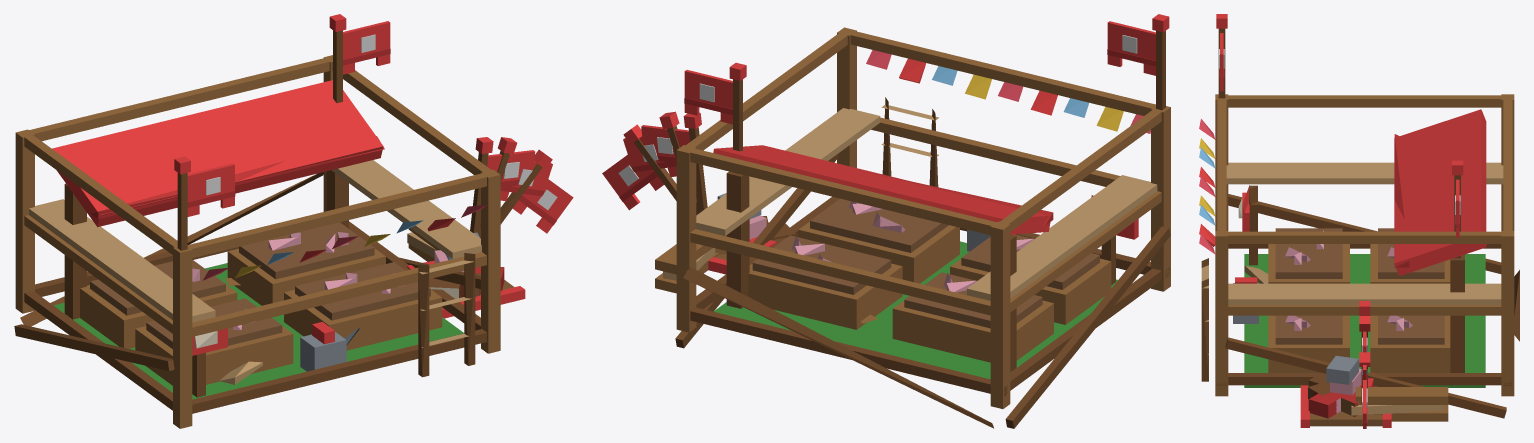
File: robin-producer.glb
The picture shows the model from 3 angles, left to right: view 1: azimuth 30°, elevation 25°; view 2: azimuth 150°, elevation 25°; view 3: azimuth 270°, elevation 25°; orthographic projection. The views are drawn at different scales.
Parts seen in each view (by area): view 1: scaffold-mesh, built-mesh, dismantle-75-mesh, dismantle-50-mesh, dismantle-25-mesh, scaffold-banner, banner, dismantle-25-banner, scaffold-flag-pole, dismantle-75-banner, flag-pole, dismantle-50-banner (+2 smaller); view 2: scaffold-mesh, built-mesh, dismantle-75-mesh, dismantle-50-mesh, banner, scaffold-banner, dismantle-25-banner, dismantle-50-banner, dismantle-75-banner, scaffold-flag-pole, dismantle-25-mesh, flag-pole (+2 smaller); view 3: scaffold-mesh, built-mesh, dismantle-75-mesh, dismantle-25-mesh, dismantle-50-mesh, scaffold-flag-pole, flag-pole.
Part boxes in pixels (x1=…): scaffold-mesh: x1=14, y1=55, x2=500, y2=428; built-mesh: x1=52, y1=80, x2=442, y2=384; dismantle-75-mesh: x1=53, y1=170, x2=480, y2=399; dismantle-50-mesh: x1=73, y1=220, x2=514, y2=397; dismantle-25-mesh: x1=200, y1=232, x2=525, y2=396; scaffold-banner: x1=187, y1=163, x2=235, y2=216; banner: x1=343, y1=21, x2=390, y2=74; dismantle-25-banner: x1=513, y1=175, x2=573, y2=233; scaffold-flag-pole: x1=174, y1=156, x2=190, y2=250; dismantle-75-banner: x1=487, y1=150, x2=535, y2=187; flag-pole: x1=329, y1=14, x2=346, y2=102; dismantle-50-banner: x1=500, y1=161, x2=552, y2=205; scaffold-mesh: x1=655, y1=27, x2=1170, y2=428; built-mesh: x1=713, y1=145, x2=1099, y2=372; dismantle-75-mesh: x1=714, y1=195, x2=1134, y2=379; dismantle-50-mesh: x1=716, y1=201, x2=1134, y2=352; banner: x1=684, y1=70, x2=732, y2=124; scaffold-banner: x1=1107, y1=21, x2=1155, y2=75; dismantle-25-banner: x1=602, y1=148, x2=664, y2=210; dismantle-50-banner: x1=623, y1=133, x2=676, y2=181; dismantle-75-banner: x1=641, y1=125, x2=690, y2=164; scaffold-flag-pole: x1=1152, y1=14, x2=1169, y2=110; dismantle-25-mesh: x1=708, y1=193, x2=877, y2=323; flag-pole: x1=729, y1=62, x2=746, y2=151; scaffold-mesh: x1=1199, y1=94, x2=1519, y2=421; built-mesh: x1=1235, y1=109, x2=1486, y2=344; dismantle-75-mesh: x1=1233, y1=185, x2=1485, y2=427; dismantle-25-mesh: x1=1268, y1=351, x2=1450, y2=427; dismantle-50-mesh: x1=1233, y1=219, x2=1450, y2=427; scaffold-flag-pole: x1=1216, y1=14, x2=1227, y2=98; flag-pole: x1=1452, y1=160, x2=1463, y2=258.
Size of the model in its own units: 2.71 by 1.55 by 1.73.
